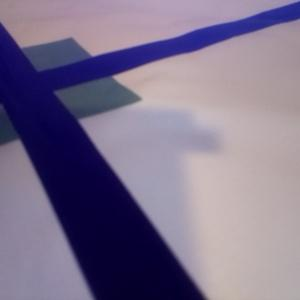bottom_left: (1, 80, 19, 147)
bottom_right: (8, 72, 141, 118)
top_left: (1, 38, 91, 81)
